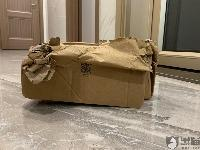damaged package: (21, 37, 157, 84)
undamaged: (16, 36, 162, 107)
